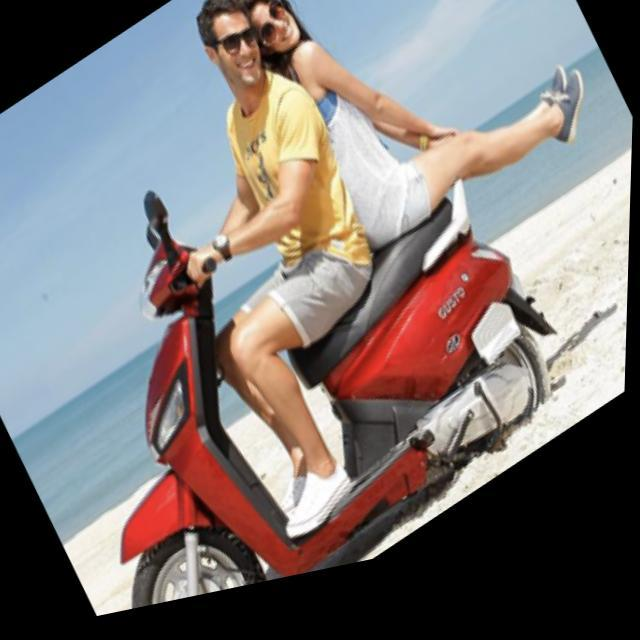Nonhelmet: (198, 0, 262, 98), (243, 0, 316, 78)
